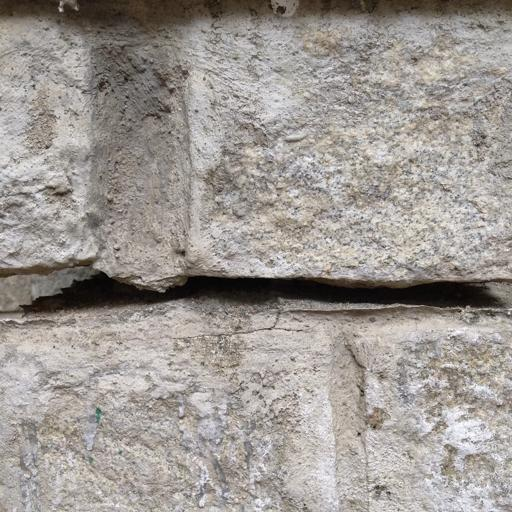major_crack: (14, 238, 503, 341)
